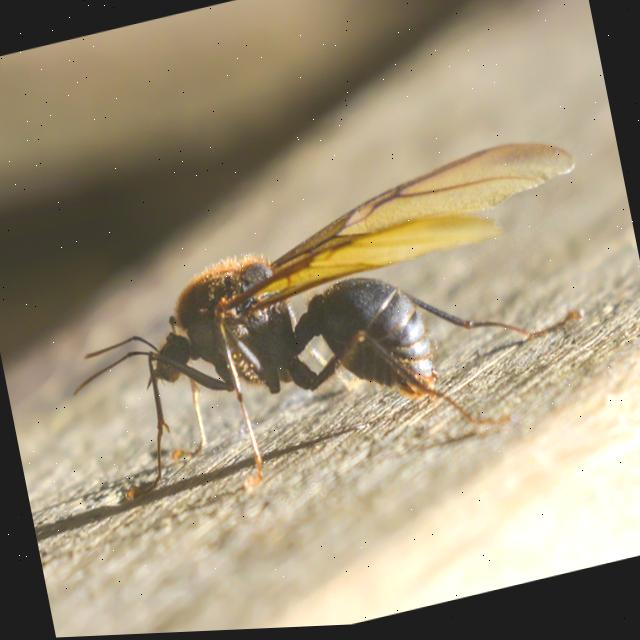Alive-Male-Alate: (46, 132, 621, 529)
